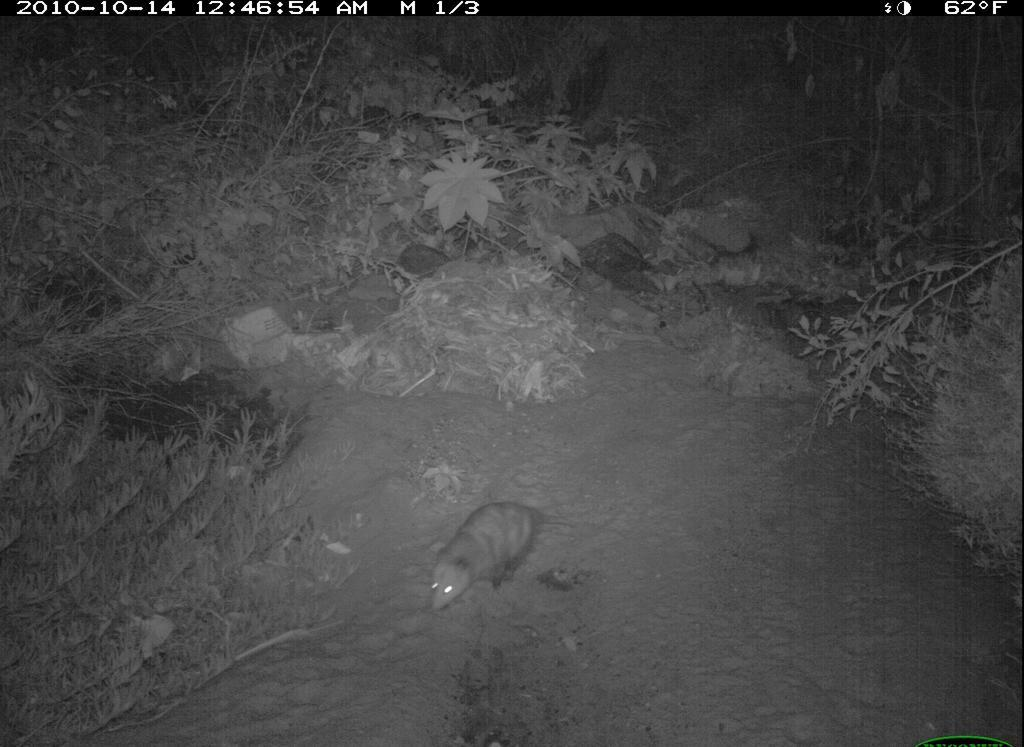opossum: (414, 484, 555, 630)
